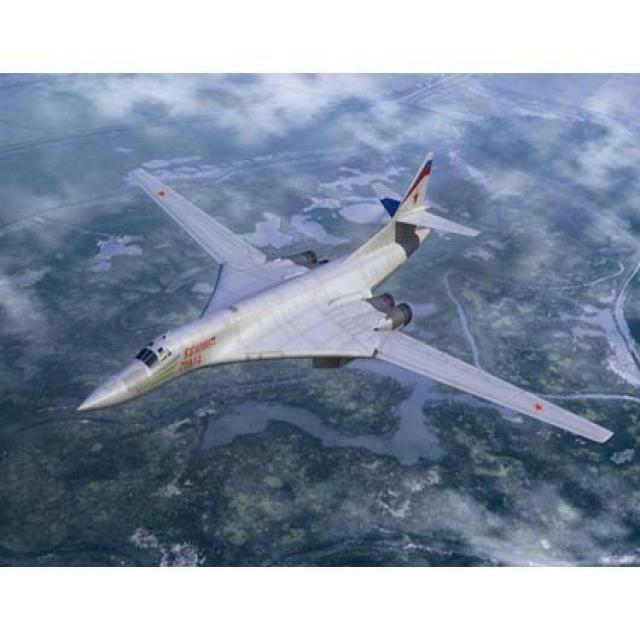Tu160: (67, 128, 640, 482)
